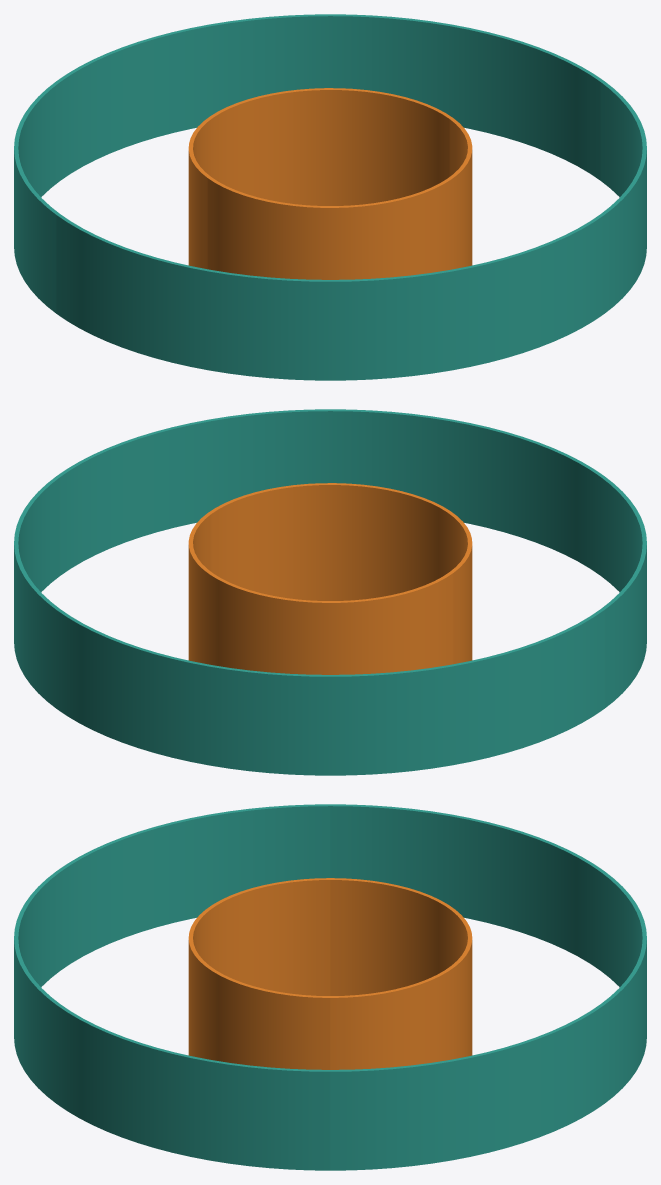
Rendered from clariflocculator_pressure.glb.
3 renders of one model, top to bottom at view 1: azimuth 30°, elevation 25°; view 2: azimuth 150°, elevation 25°; view 3: azimuth 270°, elevation 25°, orthographic.
Parts seen in each view (by area): view 1: pressure__front, pressure__back; view 2: pressure__back, pressure__front; view 3: pressure__back, pressure__front.
Boxes of the visible parts, bbox=[...] form: pressure__front: bbox=[56, 81, 646, 380]; pressure__back: bbox=[14, 14, 604, 313]; pressure__back: bbox=[14, 476, 604, 775]; pressure__front: bbox=[56, 409, 646, 708]; pressure__back: bbox=[330, 804, 646, 1170]; pressure__front: bbox=[14, 804, 330, 1170].
Bounding box in the file's own units: 2.9 × 0.75 × 2.9.
